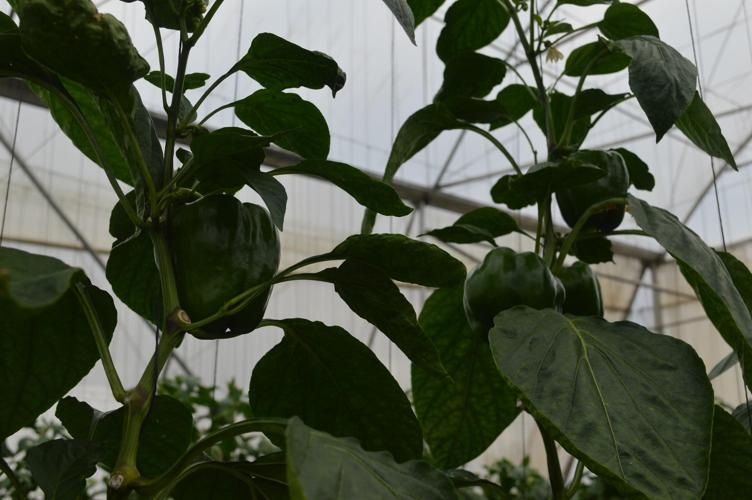BellPepper: (155, 195, 278, 335), (457, 246, 570, 358), (557, 144, 632, 236)
